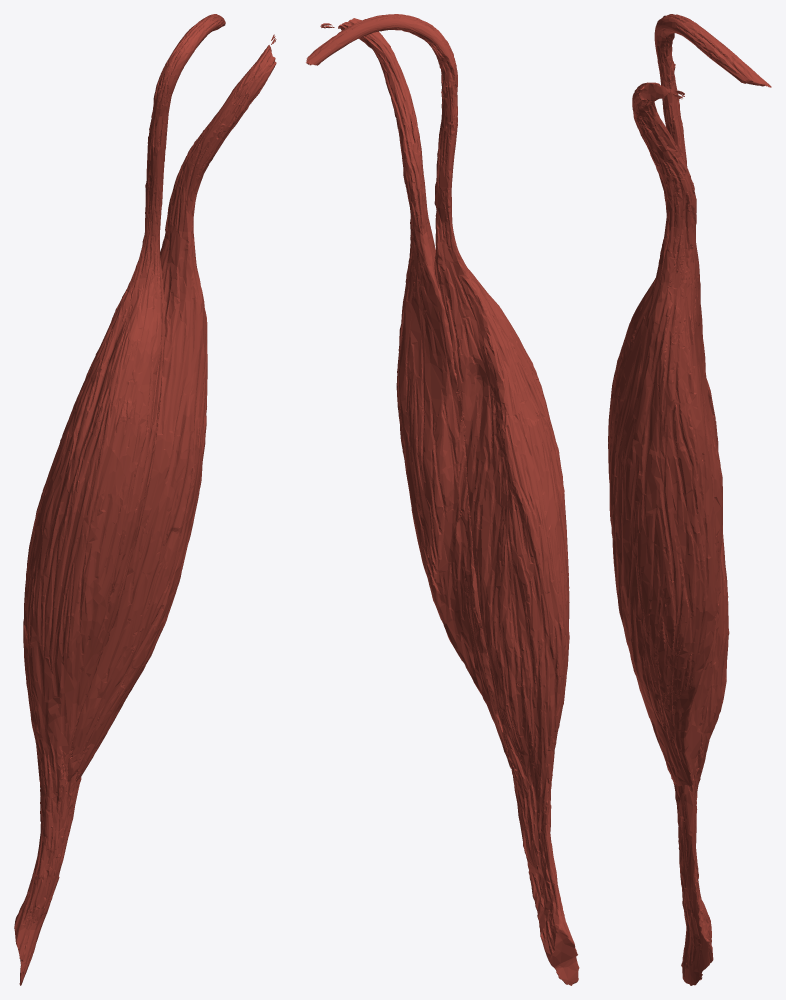
File: biceps_brachii_right.glb
3 renders of one model, left to right at view 1: azimuth 30°, elevation 25°; view 2: azimuth 150°, elevation 25°; view 3: azimuth 270°, elevation 25°, orthographic. The views are drawn at different scales.
Bounding box in the file's own units: 0.1008 × 0.3458 × 0.0481.
